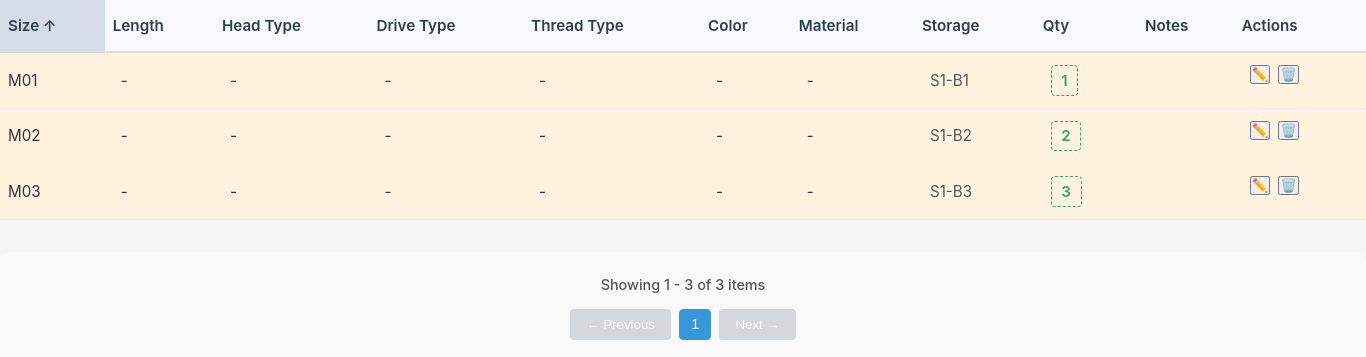
Test: sorting › shows the default order straight away, then reverses on a click and flips back on the next
Click the column heading with class "sortable" showing "Size ↑".
click(52, 26)  # box [0,0,105,52]
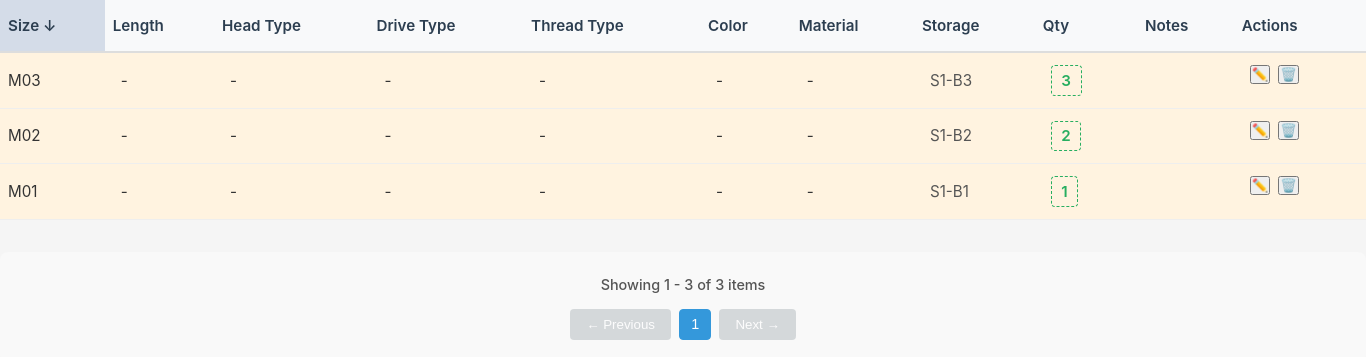
Check: the column heading "Size ↓" is shown
Click the column heading "Size ↓".
click(52, 26)  # box [0,0,105,52]
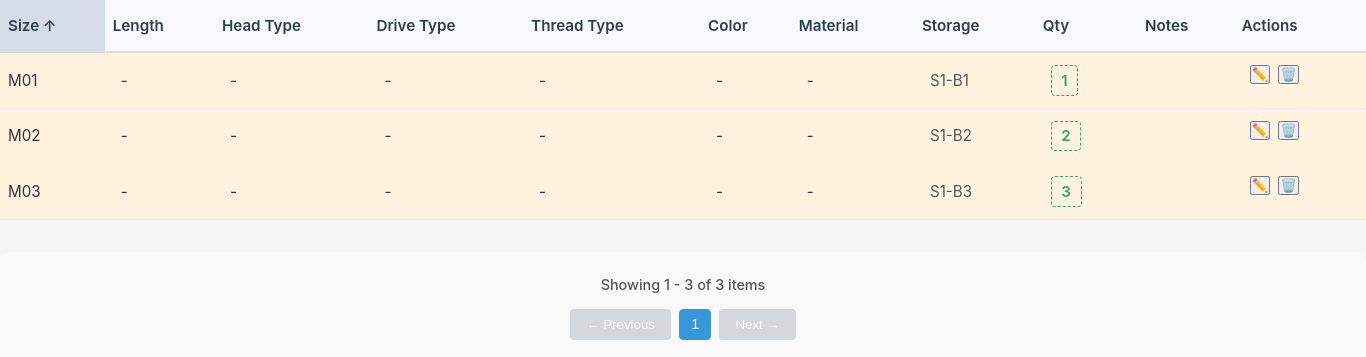
Check: the column heading "Size ↑" is shown, box [0,0,105,52]
